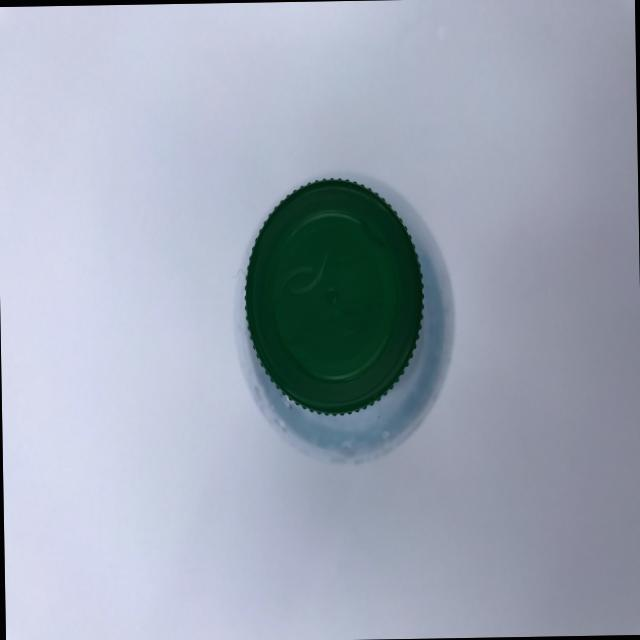Plastic: (230, 158, 474, 474)
